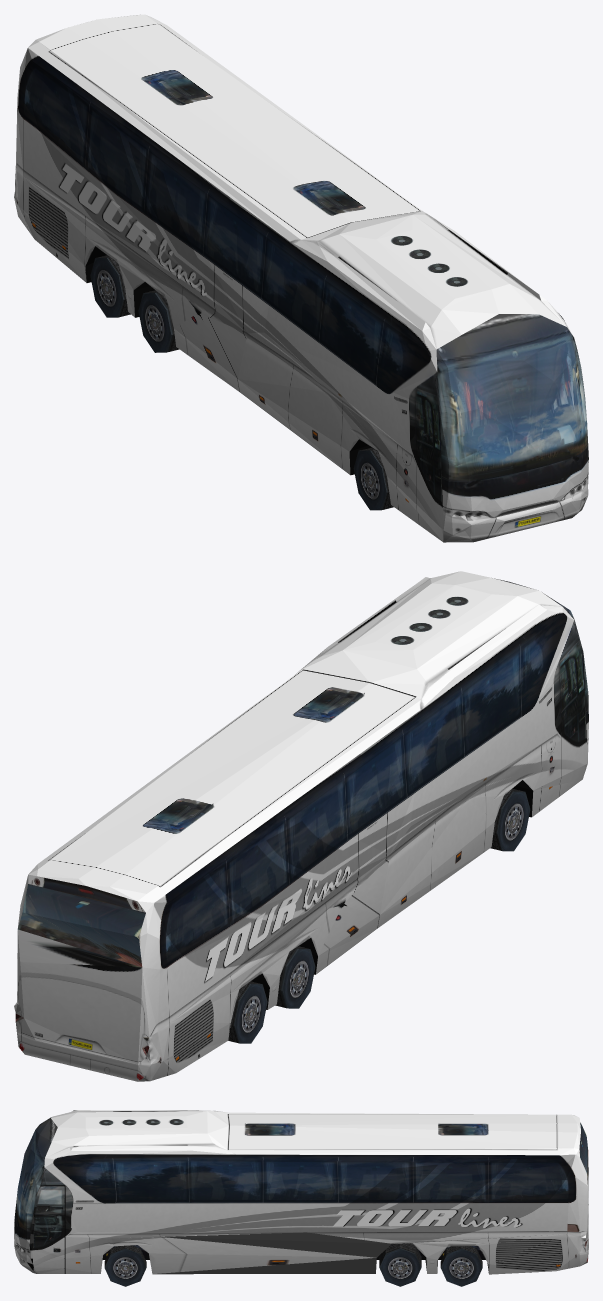
File: NeoplantourlineBus_Reduced.fbx
The picture shows the model from 3 angles, top to bottom: view 1: azimuth 30°, elevation 25°; view 2: azimuth 150°, elevation 25°; view 3: azimuth 270°, elevation 25°; orthographic projection. The views are drawn at different scales.
Parts seen in each view (by area): view 1: Object_TexMap_17; view 2: Object_TexMap_17; view 3: Object_TexMap_17.
Boxes of the visible parts, bbox=[...] form: Object_TexMap_17: bbox=[14, 14, 588, 542]; Object_TexMap_17: bbox=[14, 571, 588, 1081]; Object_TexMap_17: bbox=[14, 1110, 588, 1286].
Size of the model in its own units: 46.64 by 246 by 67.2.
Materials: 1 (1 with a texture image).
